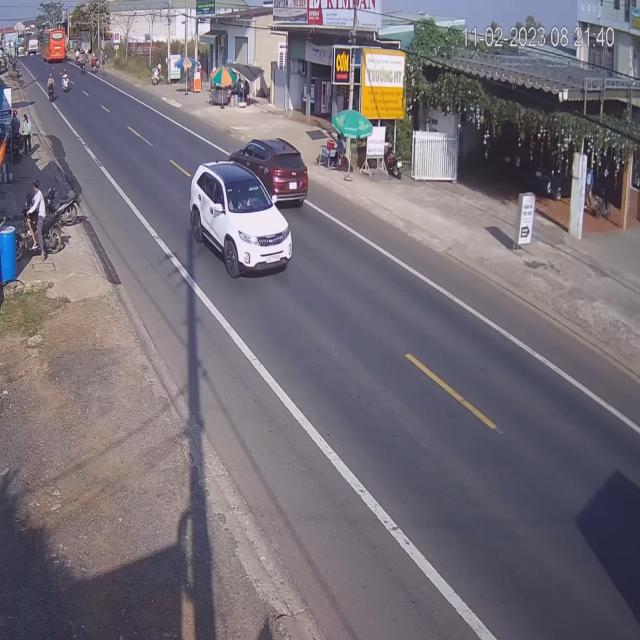bus: (39, 26, 66, 66)
car: (189, 159, 291, 276), (243, 142, 310, 210)
motorbike: (46, 70, 55, 100), (62, 68, 72, 92)
